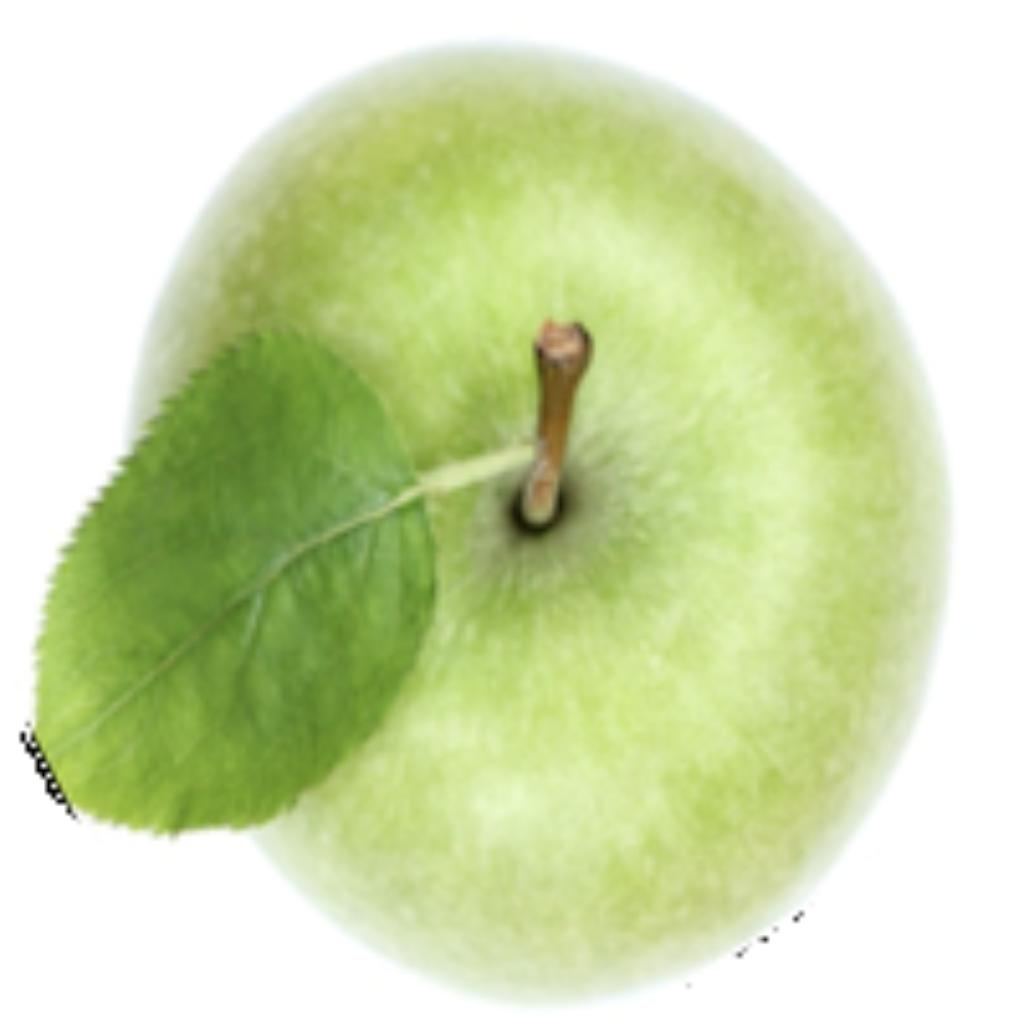apple: (15, 31, 957, 1009)
